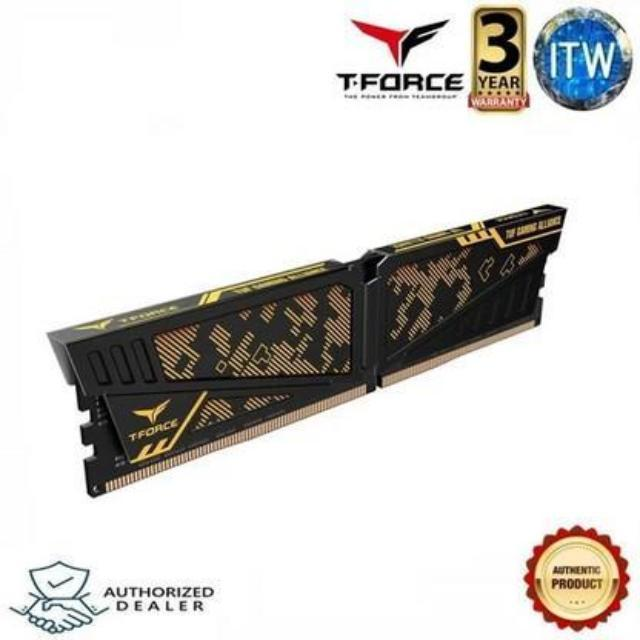RAM: (37, 192, 574, 500)
